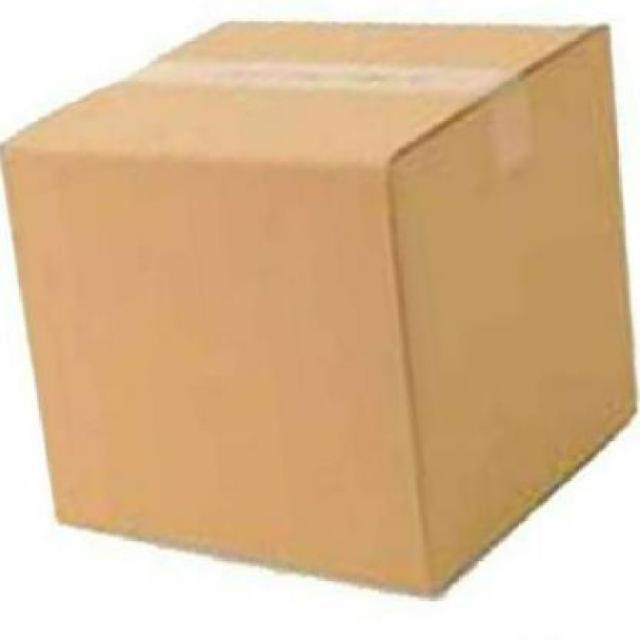cardboxes: (3, 22, 637, 600)
